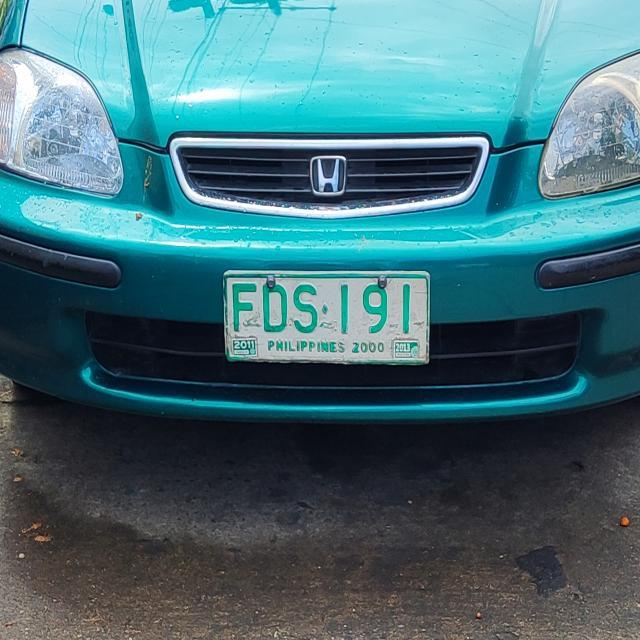LicensePlate: (207, 264, 445, 369)
